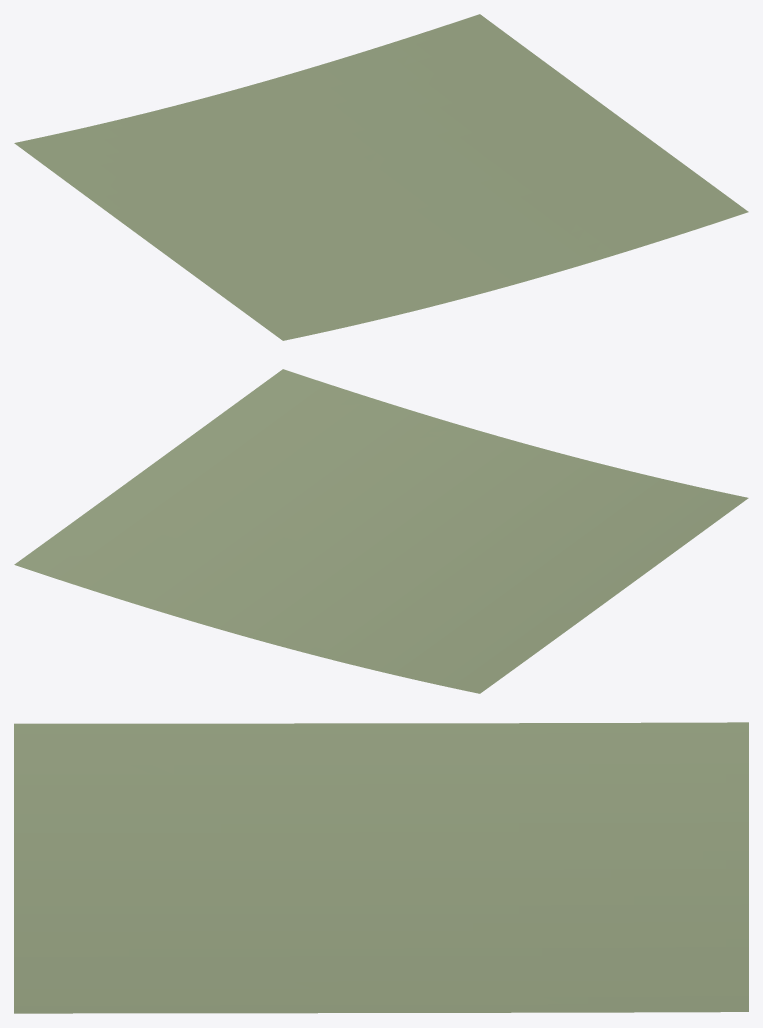
File: valley-13-5.glb
3 views of the same model, one above another, from view 1: azimuth 30°, elevation 25°; view 2: azimuth 150°, elevation 25°; view 3: azimuth 270°, elevation 25° (orthographic). The views are drawn at different scales.
Visible parts, largest first — view 1: valley-13-5; view 2: valley-13-5; view 3: valley-13-5.
Part boxes in pixels (<box>): valley-13-5: <box>14,14,748,340</box>; valley-13-5: <box>14,369,748,693</box>; valley-13-5: <box>14,722,748,1013</box>.
Bounding box in the file's own units: 256 × 9.7 × 256.
